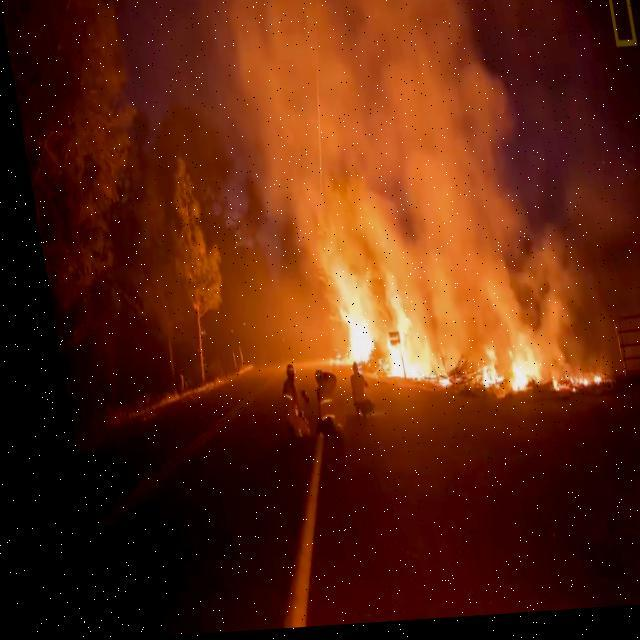Fire: (310, 255, 438, 398), (460, 344, 533, 400), (532, 372, 590, 401)
